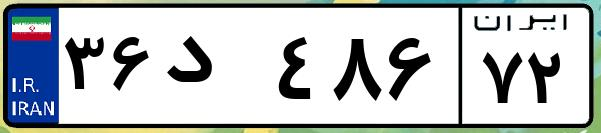2: (525, 38, 570, 115)
3: (57, 26, 110, 100)
4: (270, 28, 330, 110)
6: (385, 28, 445, 110), (110, 28, 158, 98)
7: (475, 38, 525, 113)
8: (330, 28, 385, 110)
د: (158, 20, 270, 120)
